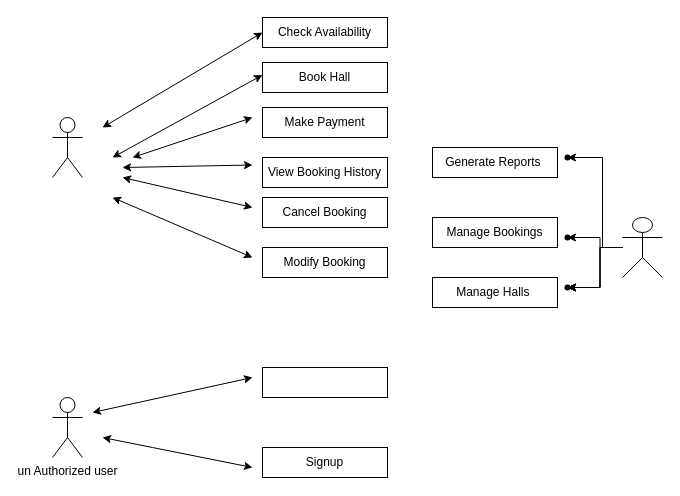
Image size: 680x496. Some labels were removed from this diagram. The shapes that lost their labels are listed below. From the top down, each one's box as (x1, y1, x2, y2) in pixels, then its label:
(52, 116, 82, 178): Authorized user
(622, 216, 662, 278): System
(262, 366, 388, 398): Login
